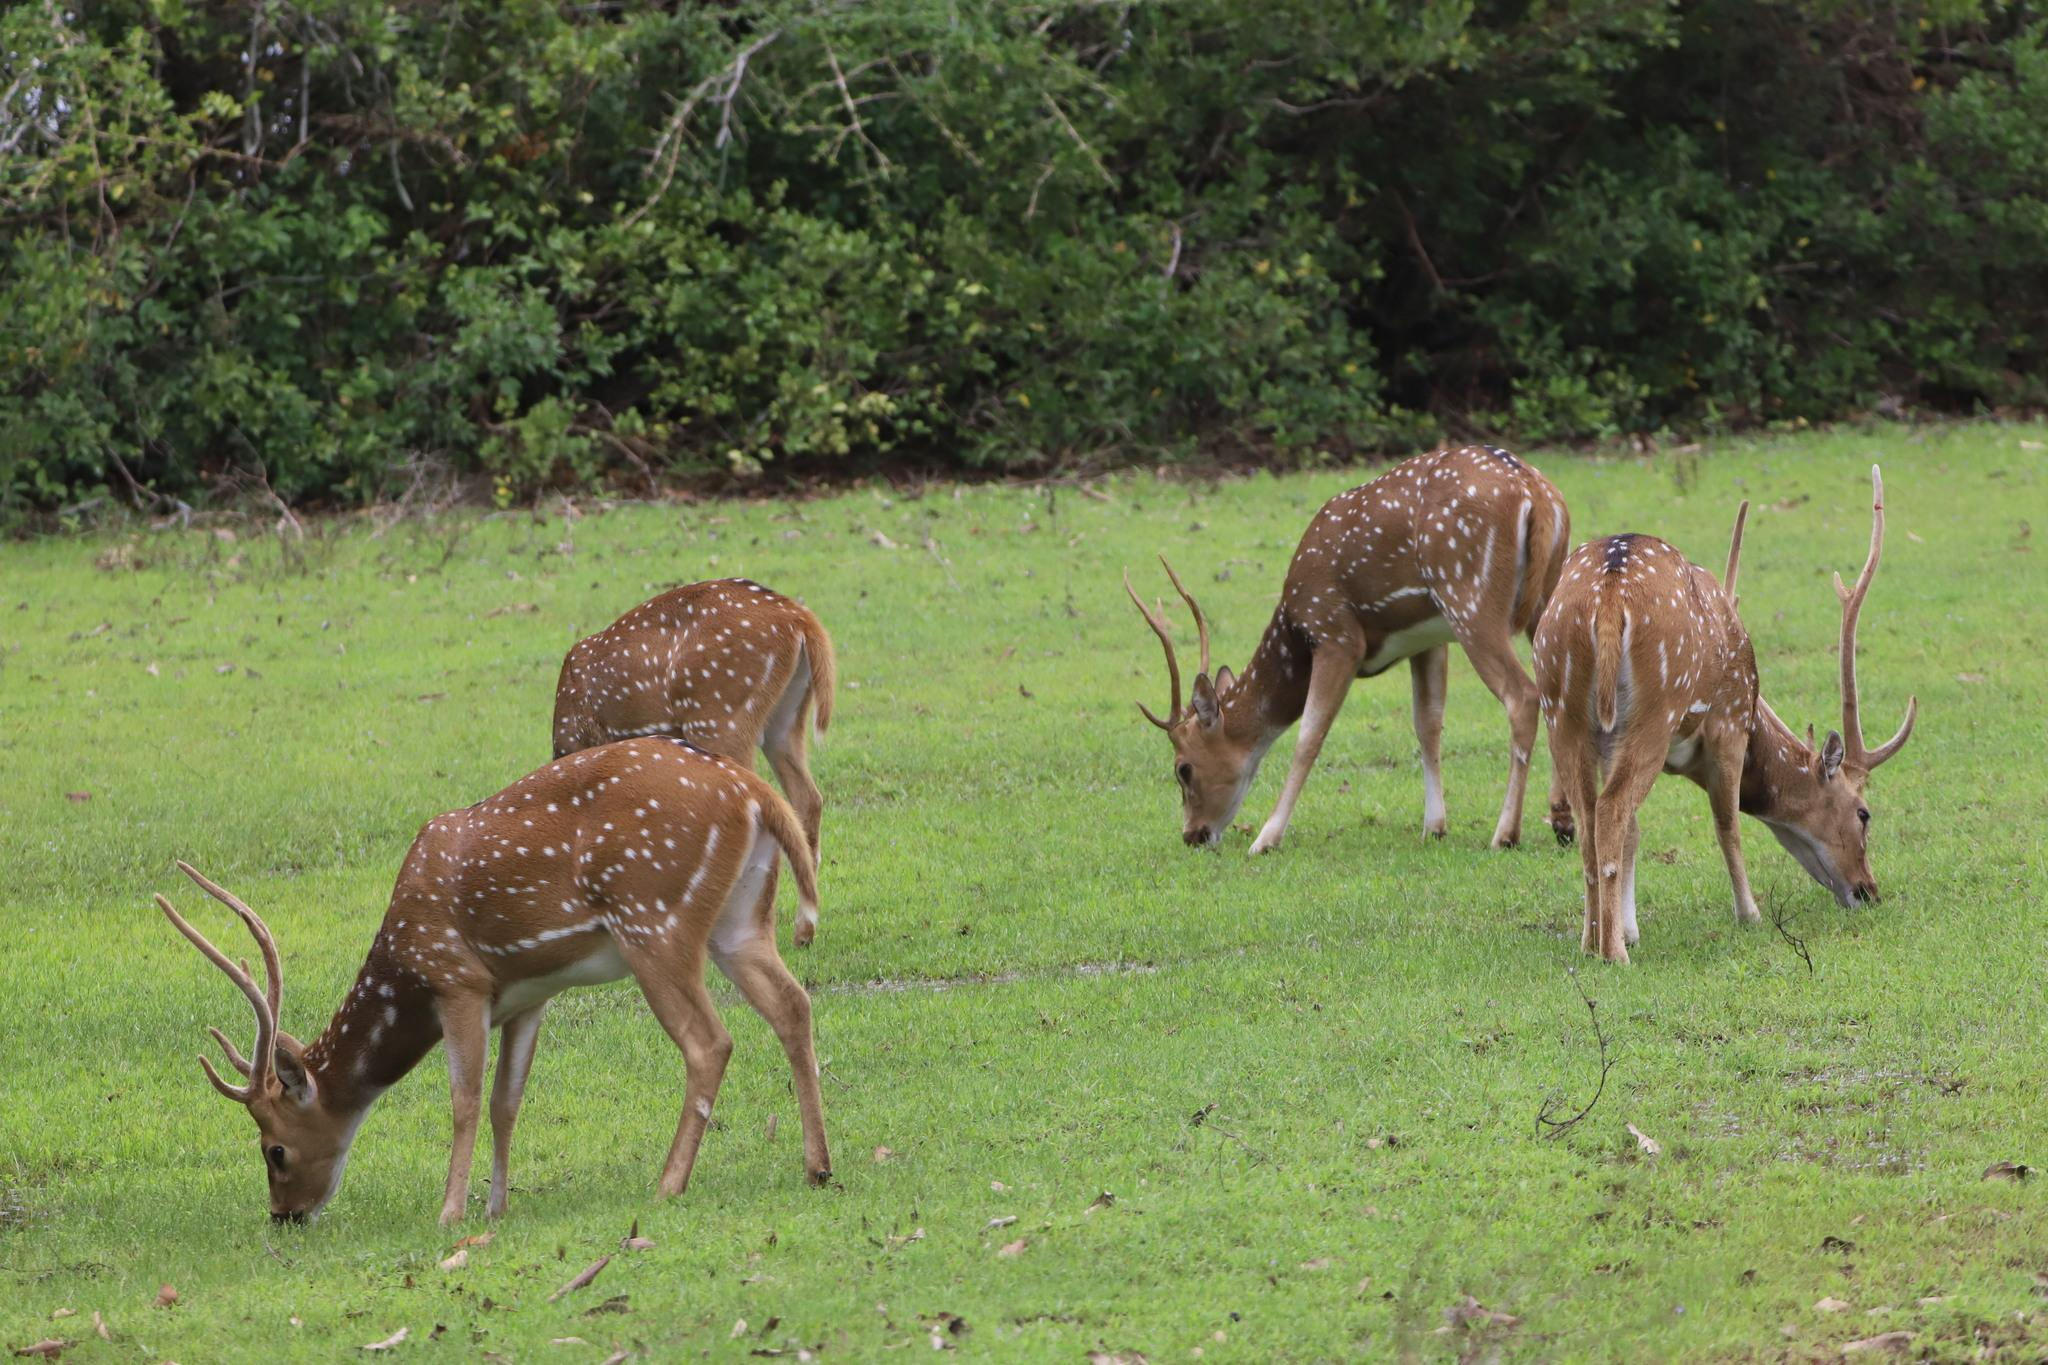Deer: (155, 734, 831, 1223), (1530, 466, 1917, 960), (1127, 446, 1568, 852), (553, 577, 836, 844)
